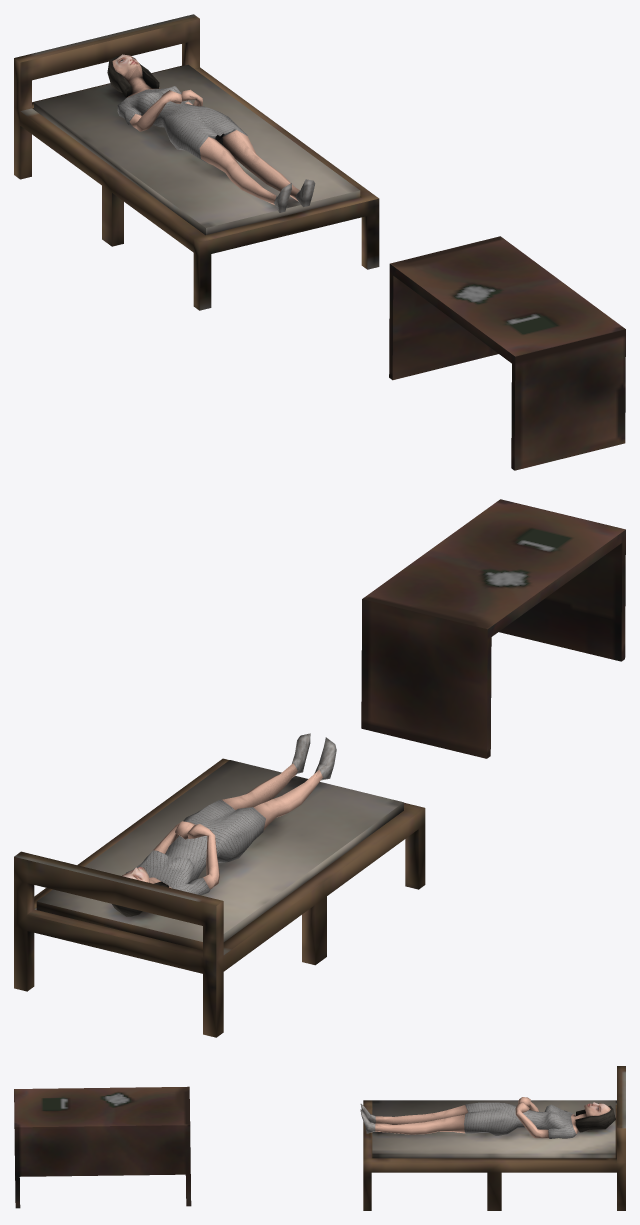
File: Hospital Arena.glb
3 renders of one model, top to bottom at view 1: azimuth 30°, elevation 25°; view 2: azimuth 150°, elevation 25°; view 3: azimuth 270°, elevation 25°, orthographic. The views are drawn at different scales.
Visible parts, largest first — view 1: Bed A, Desk A, Patient; view 2: Bed A, Desk A, Patient; view 3: Desk A, Bed A, Patient.
Part boxes in pixels (<box>): Bed A: <box>14,14,379,310</box>; Desk A: <box>389,236,625,470</box>; Patient: <box>107,54,315,212</box>; Bed A: <box>14,758,425,1037</box>; Desk A: <box>361,499,625,758</box>; Patient: <box>112,733,336,916</box>; Desk A: <box>14,1086,191,1208</box>; Bed A: <box>363,1066,625,1210</box>; Patient: <box>360,1097,615,1138</box>.
Size of what is drawn, in the model's own units: 1.24 by 0.7934 by 5.16.
Materials: 3 (3 with a texture image).
